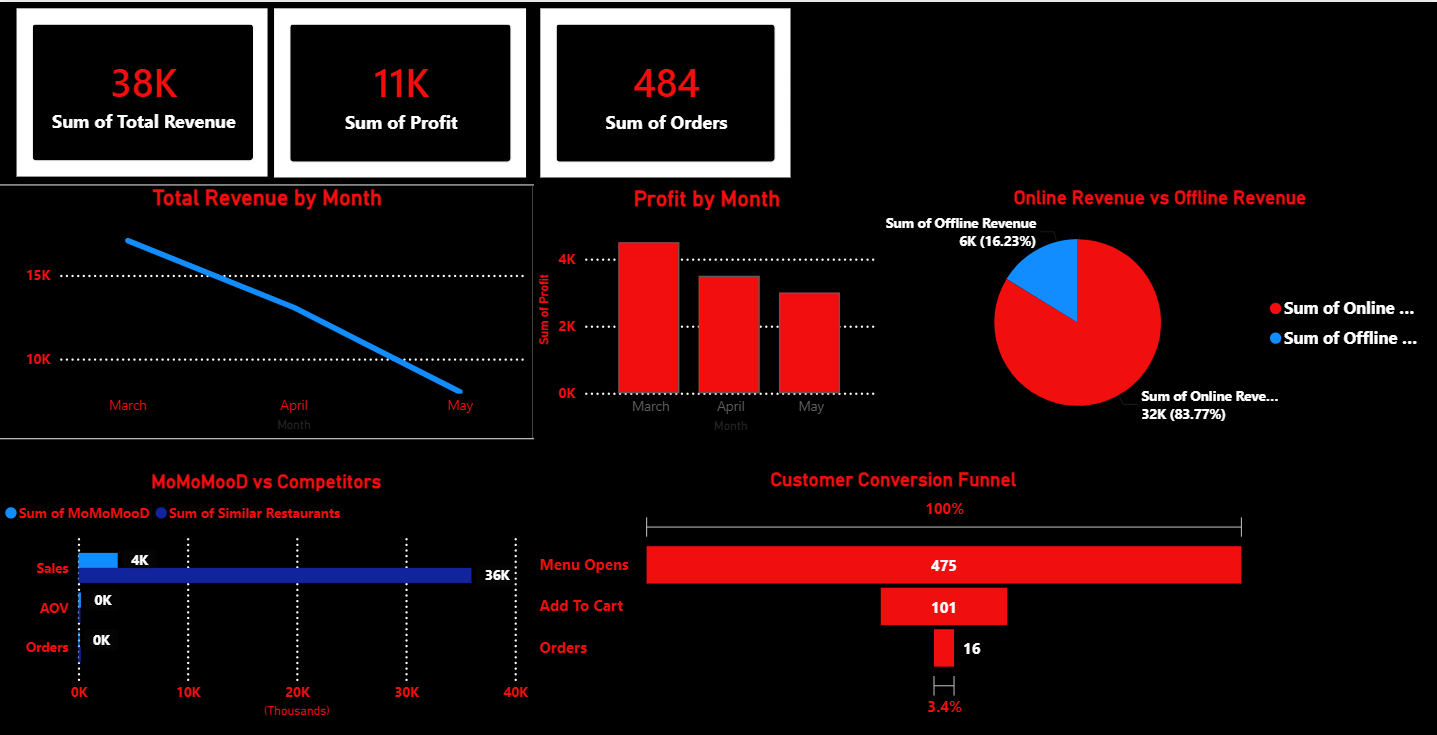

The dashboard page shown, as its layout file describes it:
{"tool":"powerbi","page":{"name":"Page 1","canvas":[1280,720],"ordinal":0},"visuals":[{"type":"cardVisual","fields":{"Data":["Sum(Monthly_Sales.Total Revenue)"]},"box":[9.6,0,236,161.9],"z":0},{"type":"cardVisual","fields":{"Data":["Sum(Monthly_Sales.Profit)"]},"box":[238.5,0,236,162],"z":1000},{"type":"cardVisual","fields":{"Data":["Sum(Monthly_Sales.Orders)"]},"box":[475.4,0,234.8,162.3],"z":2000},{"type":"lineChart","title":"Total Revenue by Month","fields":{"Y":["Sum(Monthly_Sales.Total Revenue)"],"Category":["Monthly_Sales.Month.Variation.Date Hierarchy.Month"]},"box":[0,162.3,475.4,226.1],"z":3000},{"type":"columnChart","title":" Profit by Month","fields":{"Category":["Monthly_Sales.Month.Variation.Date Hierarchy.Month"],"Y":["Sum(Monthly_Sales.Profit)"]},"box":[474.4,163.4,309.8,224.4],"z":4000},{"type":"pieChart","title":" Online Revenue vs Offline Revenue","fields":{"Y":["Sum(Monthly_Sales.Online Revenue)","Sum(Monthly_Sales.Offline Revenue)"]},"box":[784.1,163.4,495.1,224.4],"z":4001},{"type":"clusteredBarChart","title":"MoMoMooD vs Competitors","fields":{"Category":["Competitor_Comparison.Metric"],"Y":["Sum(Competitor_Comparison.MoMoMooD)","Sum(Competitor_Comparison.Similar Restaurants)"]},"box":[0,415,475,226],"z":4002},{"type":"funnel","title":"Customer Conversion Funnel","fields":{"Category":["Funnel_Data.Stage"],"Y":["Sum(Funnel_Data.Value)"]},"box":[475.6,414.6,639,226.8],"z":4003}]}

Visuals, with their boxes on the page's 1280x720 design canvas (x1, y1, x2, y2). These are canvas units, not pixel positions in the 1437x735 screenshot, which may show the page scaled, cropped or inside an application window:
cardVisual - Sum(Monthly_Sales.Total Revenue): [10, 0, 246, 162]
cardVisual - Sum(Monthly_Sales.Profit): [238, 0, 474, 162]
cardVisual - Sum(Monthly_Sales.Orders): [475, 0, 710, 162]
"Total Revenue by Month" lineChart: [0, 162, 475, 388]
" Profit by Month" columnChart: [474, 163, 784, 388]
" Online Revenue vs Offline Revenue" pieChart: [784, 163, 1279, 388]
"MoMoMooD vs Competitors" clusteredBarChart: [0, 415, 475, 641]
"Customer Conversion Funnel" funnel: [476, 415, 1115, 641]
